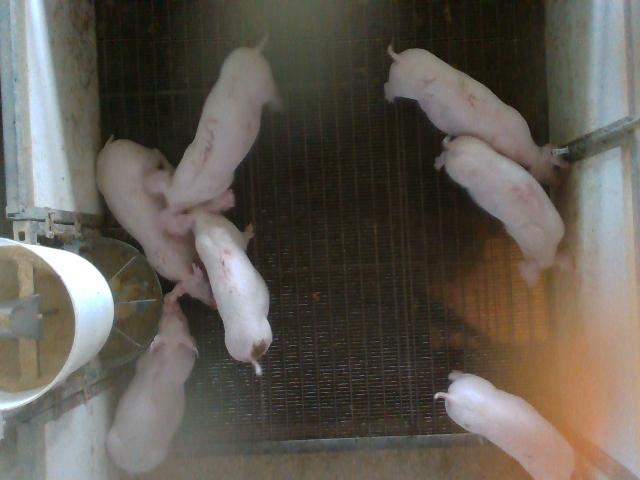pig-3: (146, 40, 280, 213)
pig-4: (435, 139, 565, 287)
pig-5: (162, 190, 272, 374)
